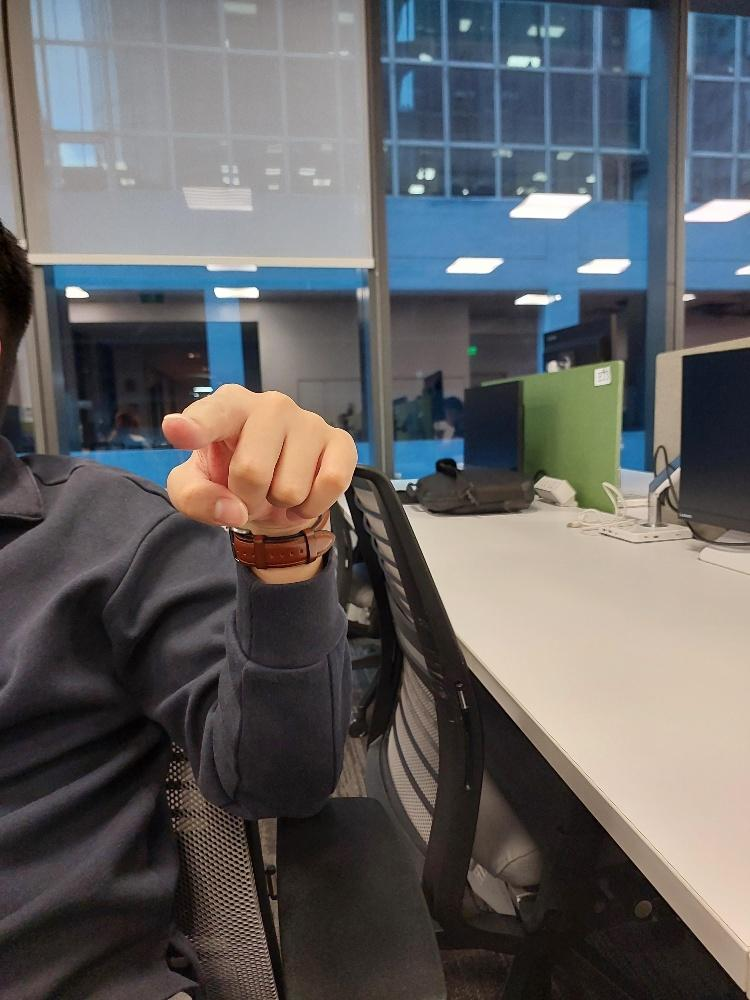z: (162, 380, 356, 528)
